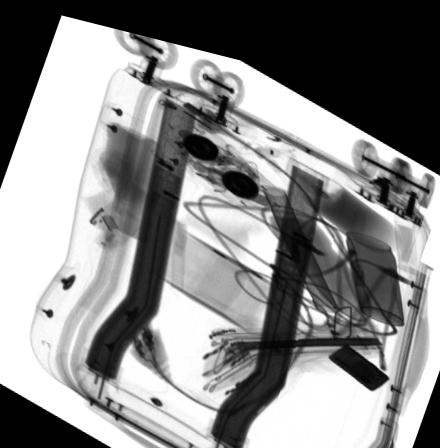Lighter: (327, 327, 390, 372)
